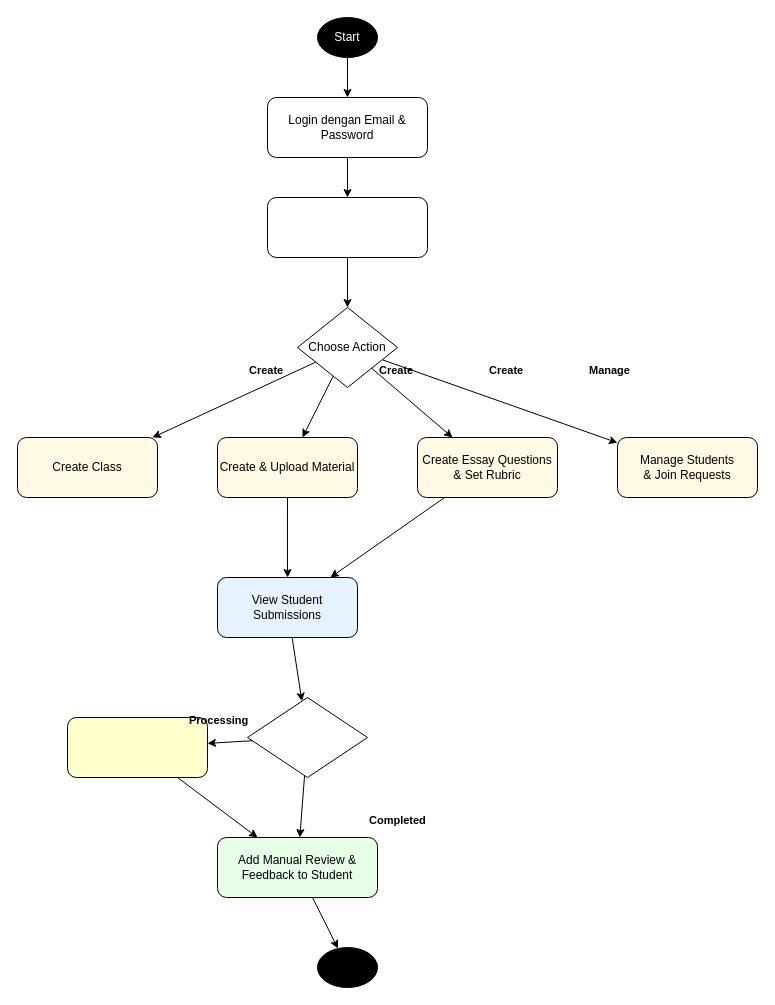
This 775x1005 diagram has some shape labels left out. Here are the shapes that lost their labels. From the top down, the box of each, then its label:
(266, 196, 428, 258): Access Teacher Dashboard
(66, 716, 208, 778): Wait for AI Grading Results
(246, 696, 368, 778): Check AI Grading Status
(316, 946, 378, 988): End
